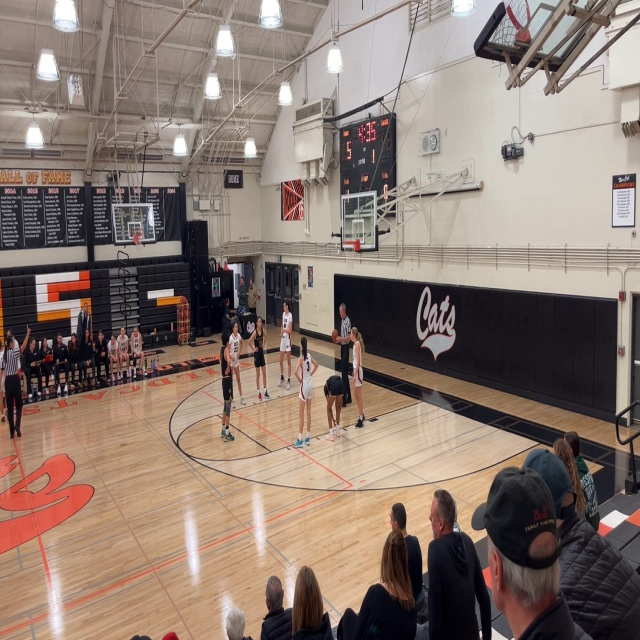Basketball: (331, 329, 339, 342)
